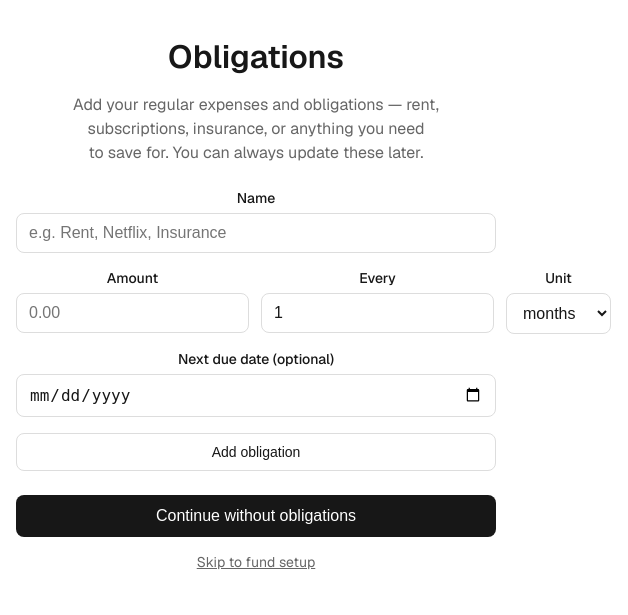
Test case: OnboardingManualObligationsPage › shows an error when name is empty
Type "1500" into the number field labelled "Amount" at (132, 312), box [16, 292, 249, 332]
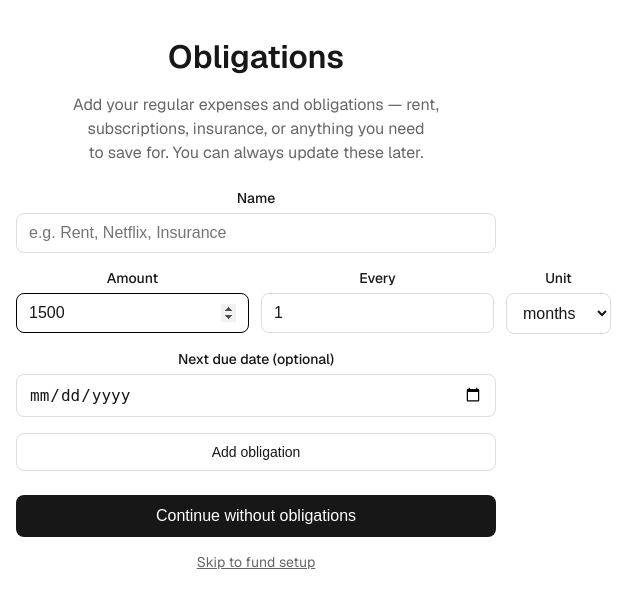
Click the button "Add obligation" at (256, 452), box [16, 432, 496, 470]
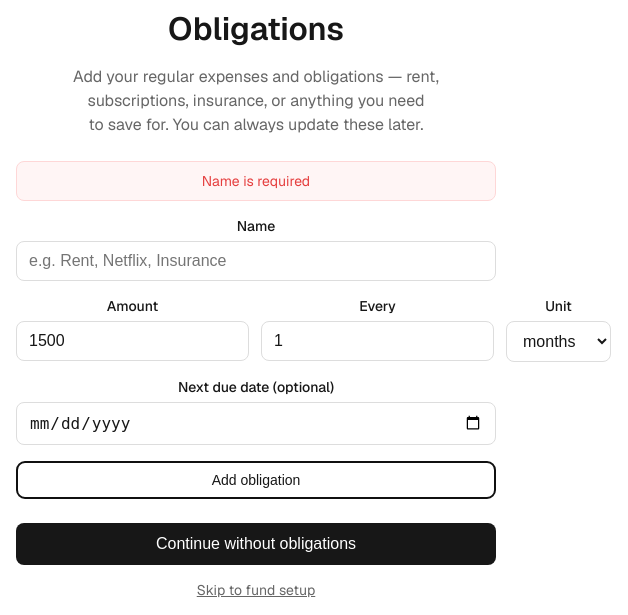
Expected: the message reads "Name is required", [202, 172, 310, 190]
